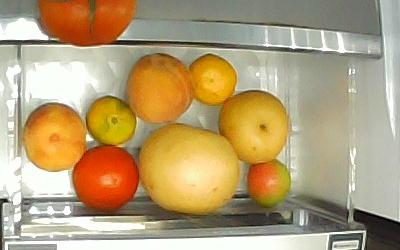peach: (123, 50, 194, 124), (21, 100, 87, 172)
pear: (135, 121, 239, 214), (217, 88, 289, 164)
tangerine: (84, 93, 136, 145), (187, 52, 237, 106)
tomato: (71, 143, 140, 211), (245, 157, 291, 205)
